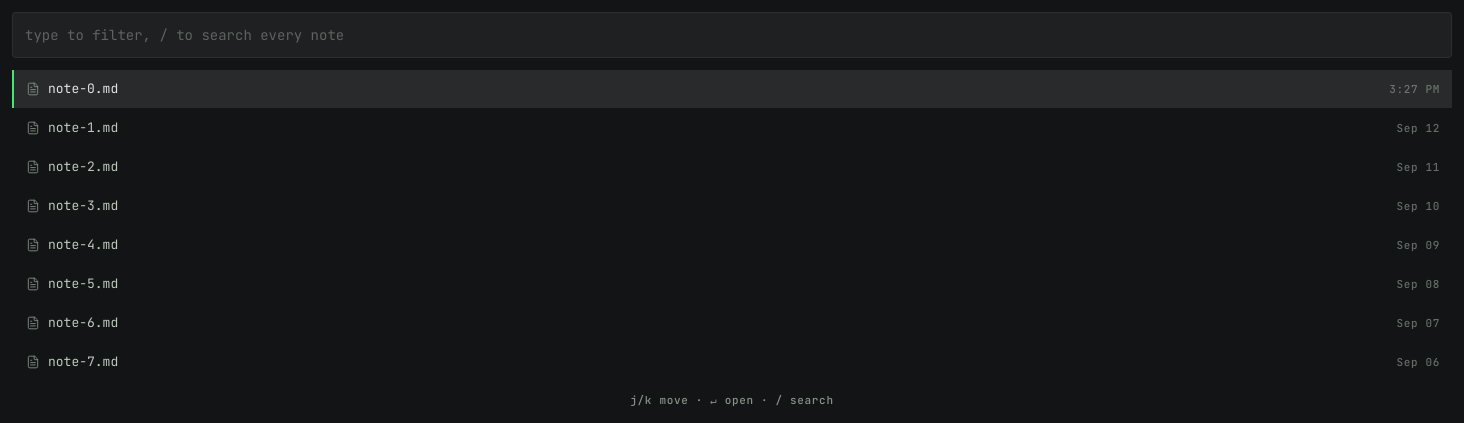
Test: RecentNotesList › with notes but a filter matching none, says no matches -- not the empty-account message
The image size is (1464, 423).
Type "zzz-nonexistent" into the field named "Filter recent notes or search all notes".
click(732, 35); type("zzz-nonexistent")  # box [12,12,1452,58]
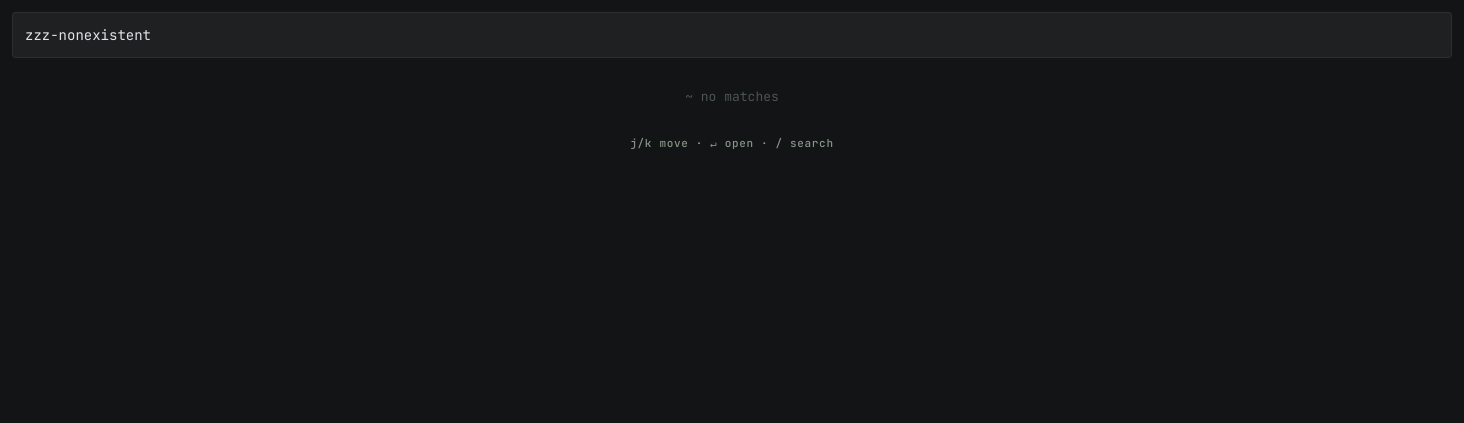
Check: the text "~ no matches" is shown, box [685,88,779,105]
